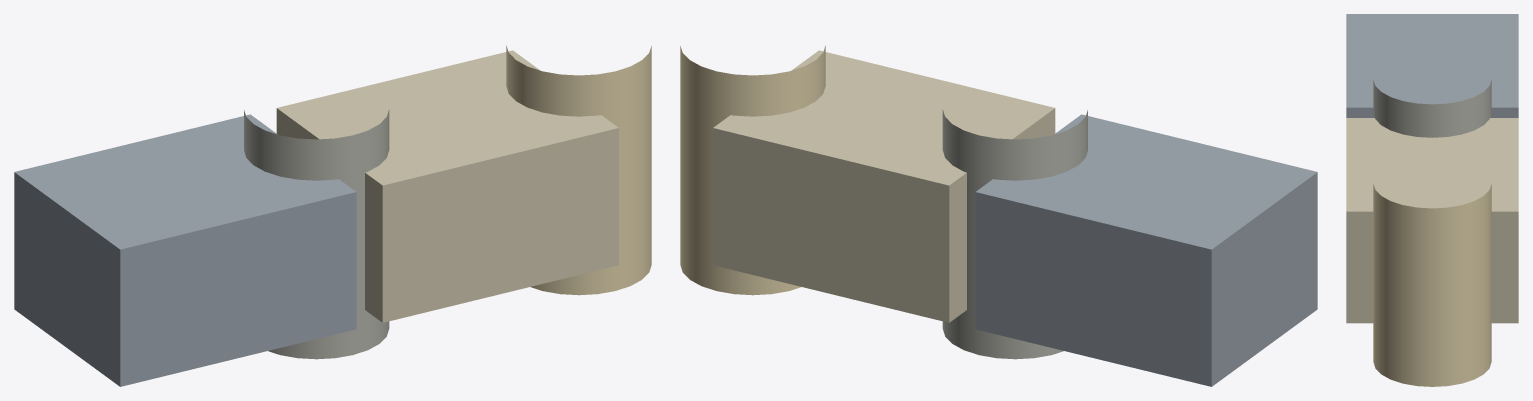
The model's file is job_rear_haldex_subframe_03.glb.
3 views of the same model, side by side, from view 1: azimuth 30°, elevation 25°; view 2: azimuth 150°, elevation 25°; view 3: azimuth 270°, elevation 25° (orthographic). The views are drawn at different scales.
Parts seen in each view (by area): view 1: node_tt03_subframe, node_tt03_guibo, node_tt03_rear_arms, node_tt03_haldex_diff; view 2: node_tt03_subframe, node_tt03_guibo, node_tt03_rear_arms, node_tt03_haldex_diff; view 3: node_tt03_rear_arms, node_tt03_guibo, node_tt03_subframe, node_tt03_haldex_diff.
Part boxes in pixels (bbox=[...]): node_tt03_subframe: bbox=[14, 114, 356, 386]; node_tt03_guibo: bbox=[276, 50, 618, 322]; node_tt03_rear_arms: bbox=[506, 45, 651, 295]; node_tt03_haldex_diff: bbox=[244, 109, 389, 359]; node_tt03_subframe: bbox=[975, 114, 1317, 386]; node_tt03_guibo: bbox=[713, 50, 1055, 322]; node_tt03_rear_arms: bbox=[680, 45, 825, 295]; node_tt03_haldex_diff: bbox=[942, 109, 1087, 359]; node_tt03_rear_arms: bbox=[1373, 184, 1491, 386]; node_tt03_guibo: bbox=[1346, 118, 1518, 323]; node_tt03_subframe: bbox=[1346, 14, 1518, 117]; node_tt03_haldex_diff: bbox=[1373, 80, 1491, 137].
Bounding box in the file's own units: 1.09 × 0.4 × 0.35.
